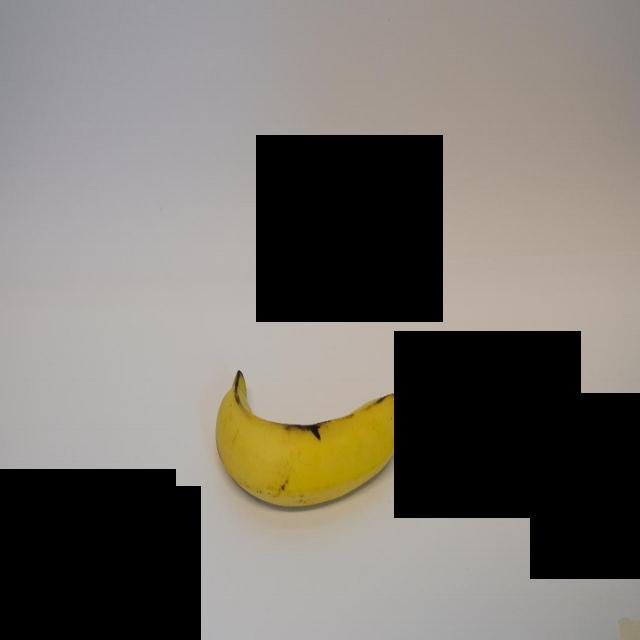banana: (215, 367, 410, 510)
